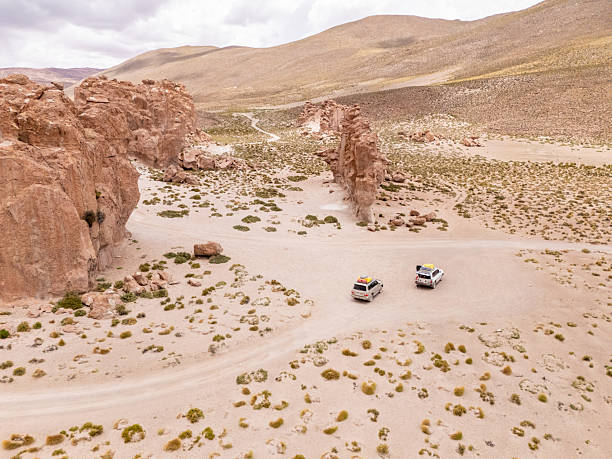vehicle_track: (0, 292, 406, 420), (234, 112, 279, 141)
